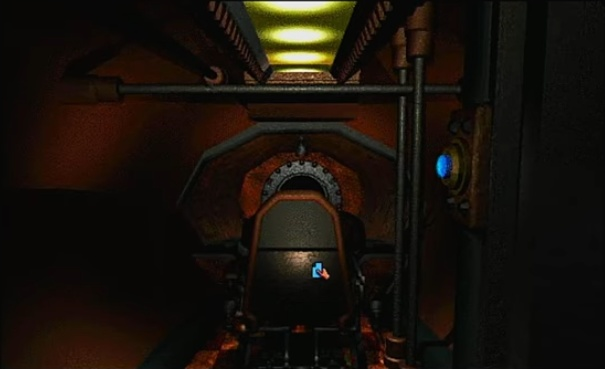Keep: (308, 261, 331, 282)
